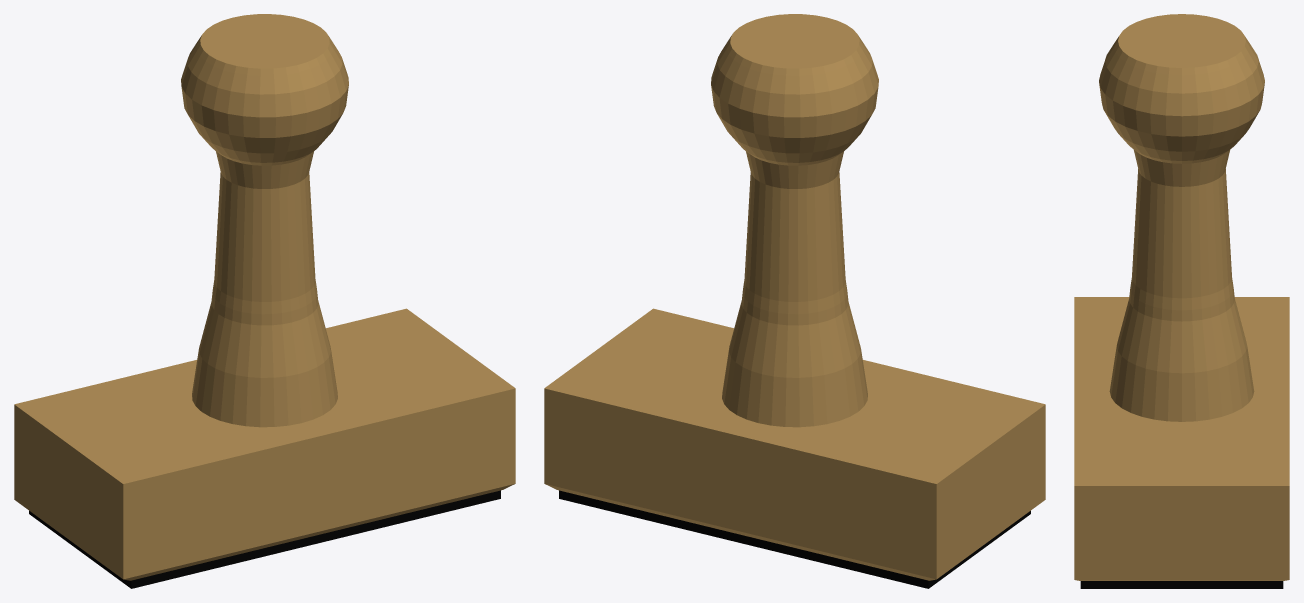
File: CarimboV1.glb
The picture shows the model from 3 angles, left to right: view 1: azimuth 30°, elevation 25°; view 2: azimuth 150°, elevation 25°; view 3: azimuth 270°, elevation 25°; orthographic projection.
Visible parts, largest first — view 1: Cube, Cubo; view 2: Cube, Cubo; view 3: Cube, Cubo.
Part boxes in pixels (left/top/right/bottom): Cube: left=14, top=14, right=515, bottom=580; Cubo: left=29, top=490, right=500, bottom=588; Cube: left=544, top=14, right=1045, bottom=580; Cubo: left=559, top=490, right=1030, bottom=588; Cube: left=1074, top=14, right=1289, bottom=580; Cubo: left=1080, top=581, right=1283, bottom=588.
Size of the model in its own units: 2 by 2.26 by 0.9627.
